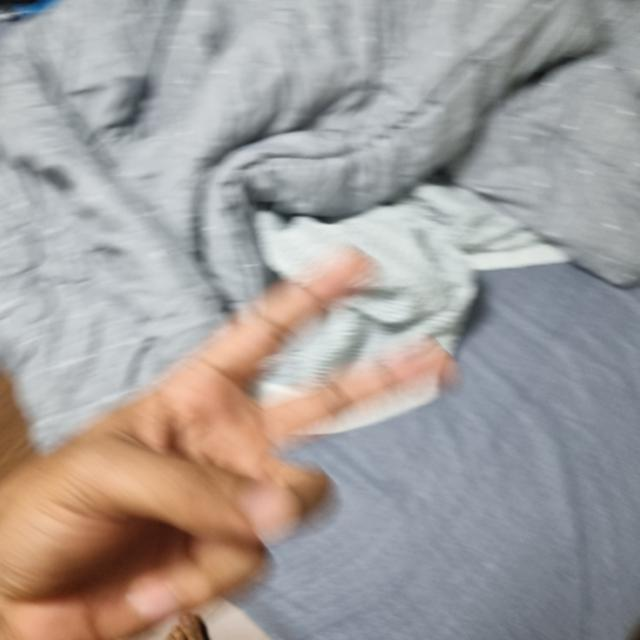Scissors: (0, 256, 403, 638)
